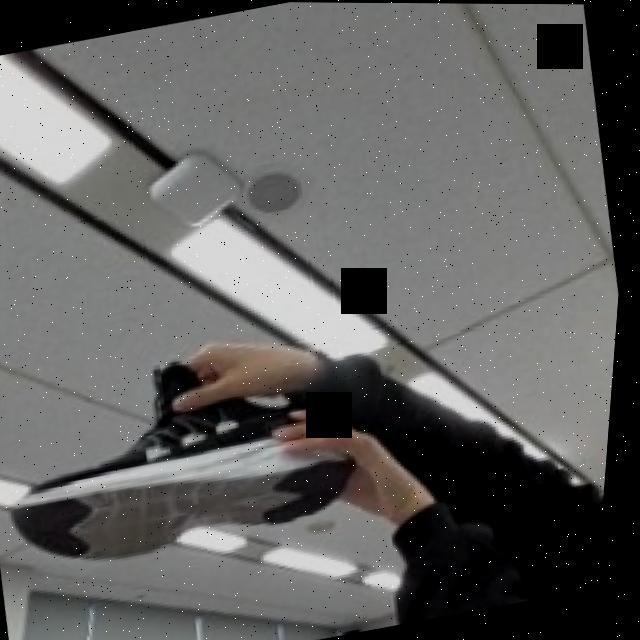shoes: (0, 328, 381, 580)
